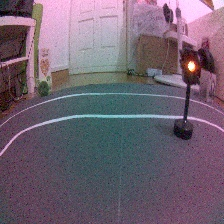amber: (173, 46, 201, 142)
